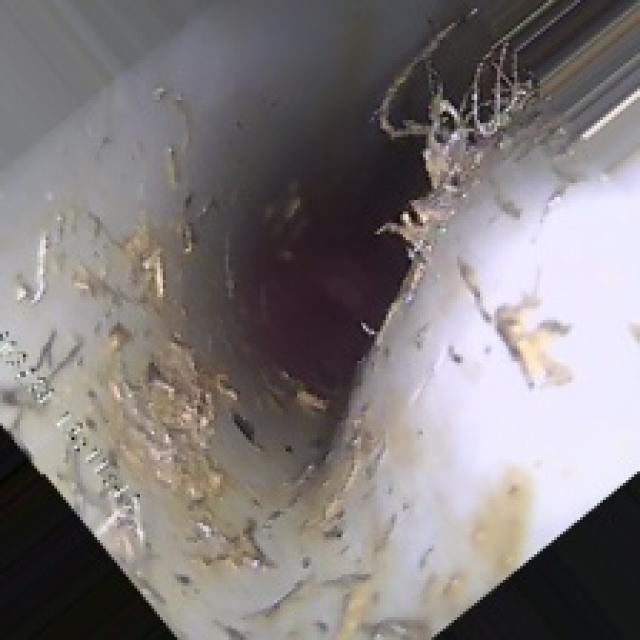shape_deformation: (86, 83, 531, 506)
